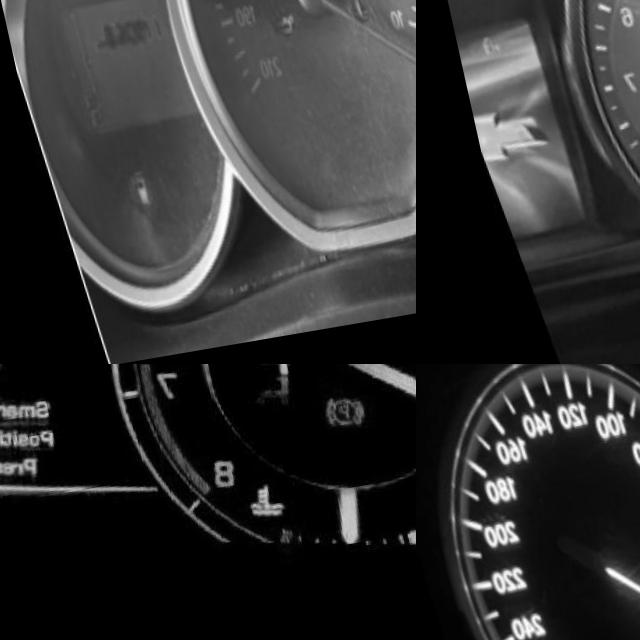Engine cooling system: (221, 487, 272, 535), (329, 0, 360, 42)
Low fuel level: (104, 175, 135, 215)
security: (465, 32, 495, 61)
